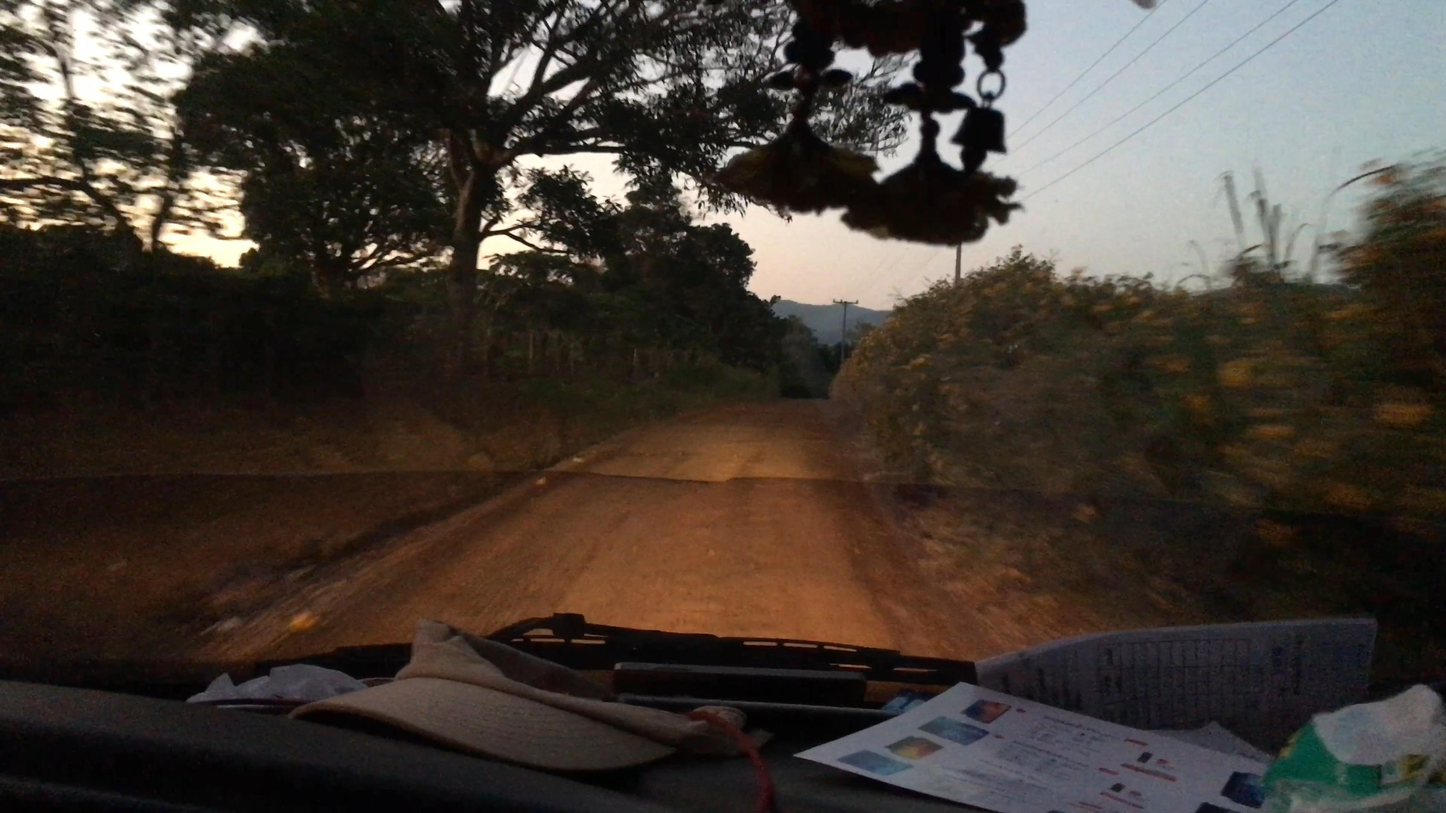dry: (183, 398, 1034, 673)
